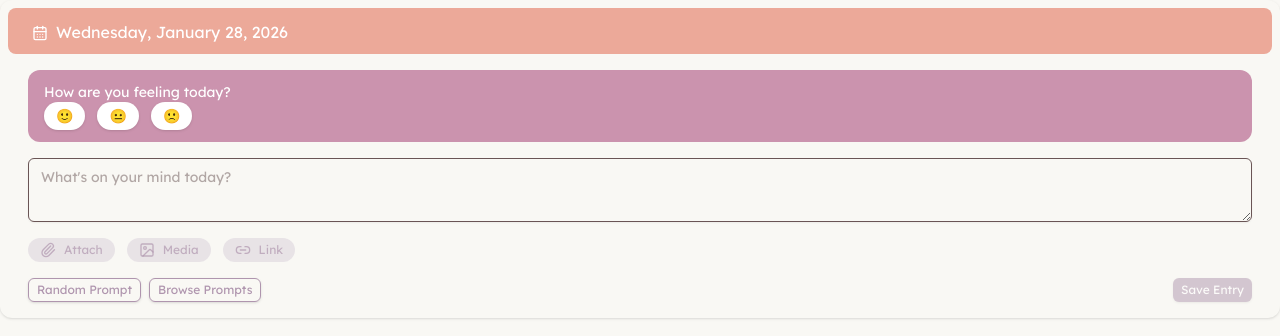
Scenario: JournalEntryComposer › clears the form after a successful save
Type "Reset me" into the text box with placeholder "What's on your mind today?" at (640, 190), box [28, 158, 1252, 222]
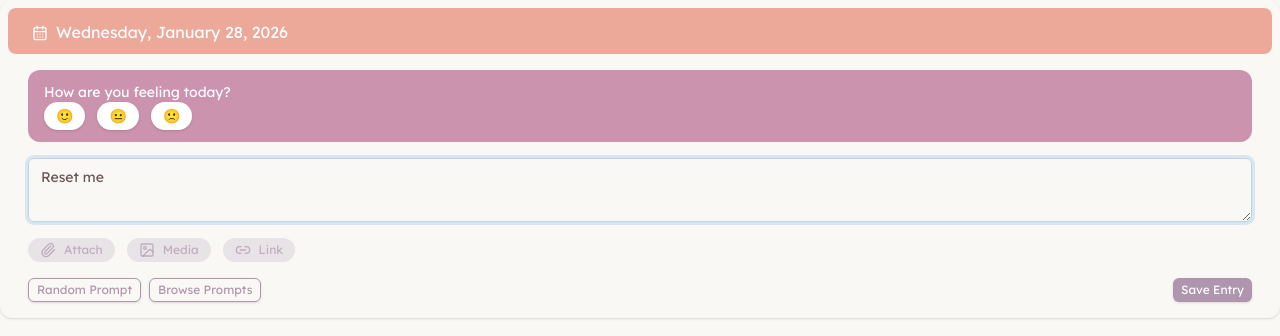
Click the button "😐" at (118, 116), box [98, 102, 139, 130]
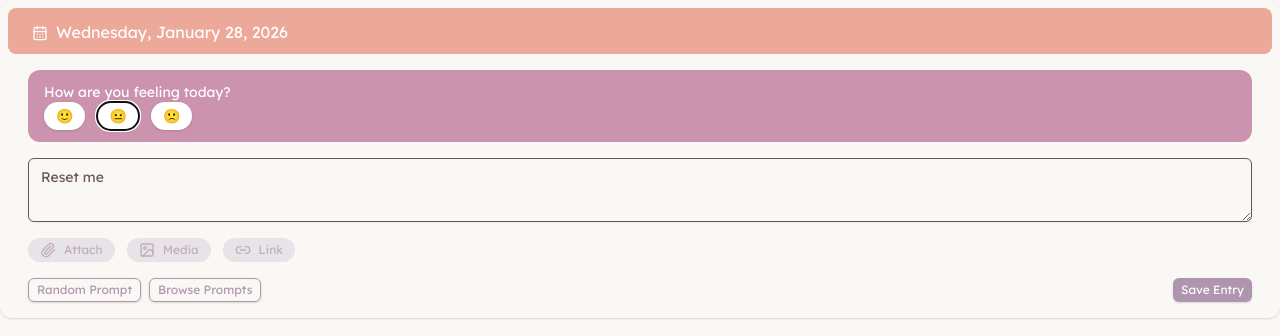
Click the button "Save Entry" at (1212, 290), box [1173, 278, 1252, 302]
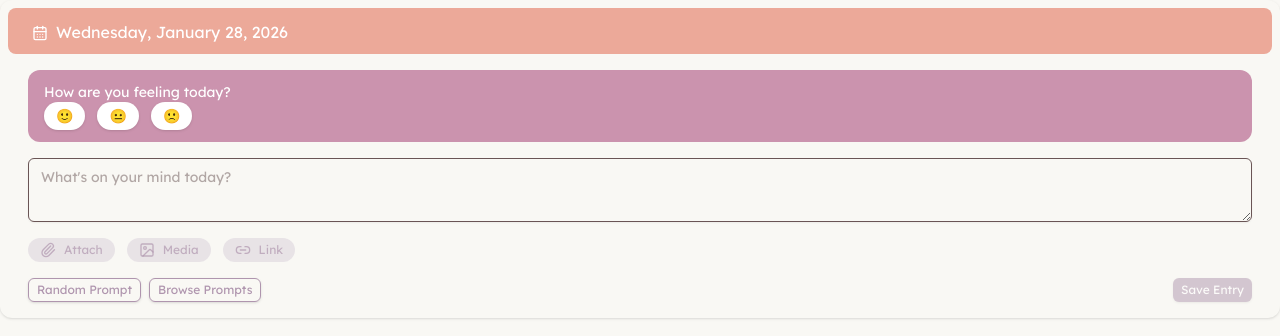
Now the text box with placeholder "What's on your mind today?" is empty, box [28, 158, 1252, 222]
Now the button "Save Entry" is disabled, box [1173, 278, 1252, 302]
